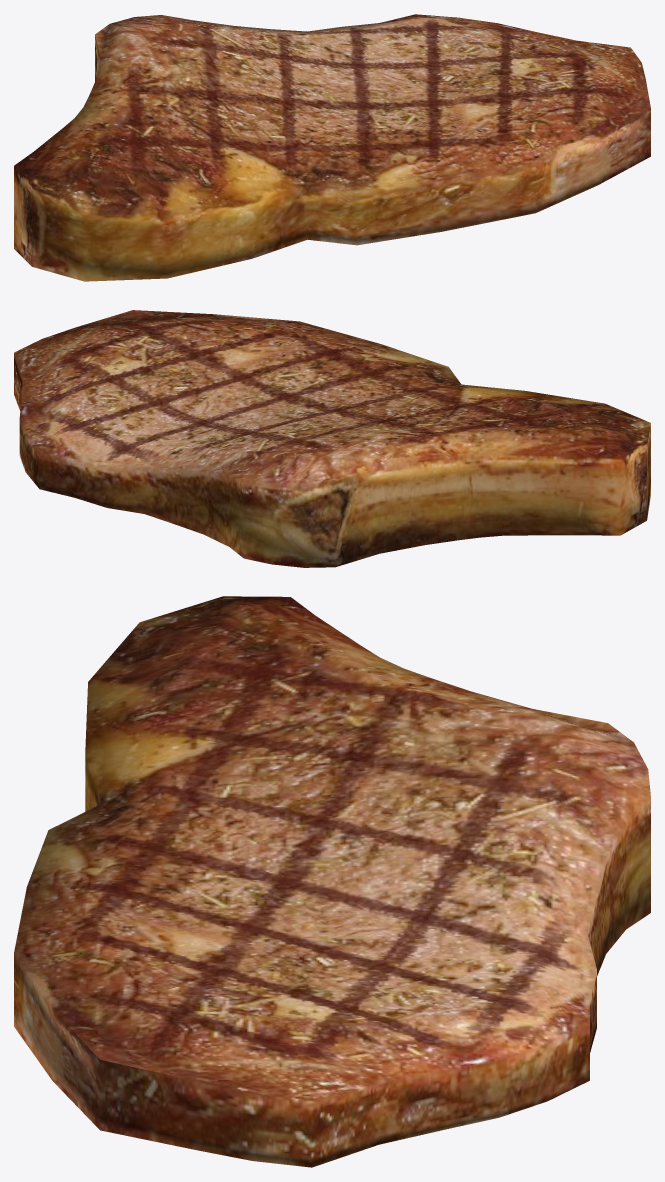
The model's file is carne.glb.
3 views of the same model, one above another, from view 1: azimuth 30°, elevation 25°; view 2: azimuth 150°, elevation 25°; view 3: azimuth 270°, elevation 25° (orthographic). The views are drawn at different scales.
Parts seen in each view (by area): view 1: carne; view 2: carne; view 3: carne.
Boxes of the visible parts, bbox=[...] form: carne: bbox=[14, 14, 650, 281]; carne: bbox=[14, 310, 650, 567]; carne: bbox=[14, 596, 650, 1167].
Bounding box in the file's own units: 32.4 × 5.1 × 19.3.
Materials: 1 (1 with a texture image).
